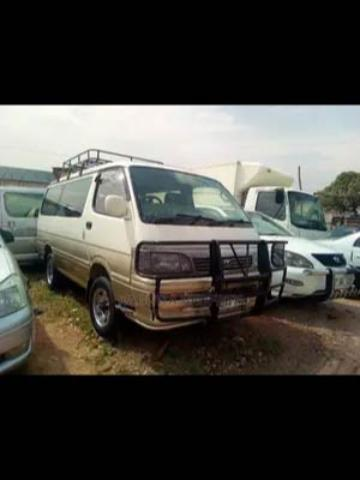van: (37, 149, 287, 340)
